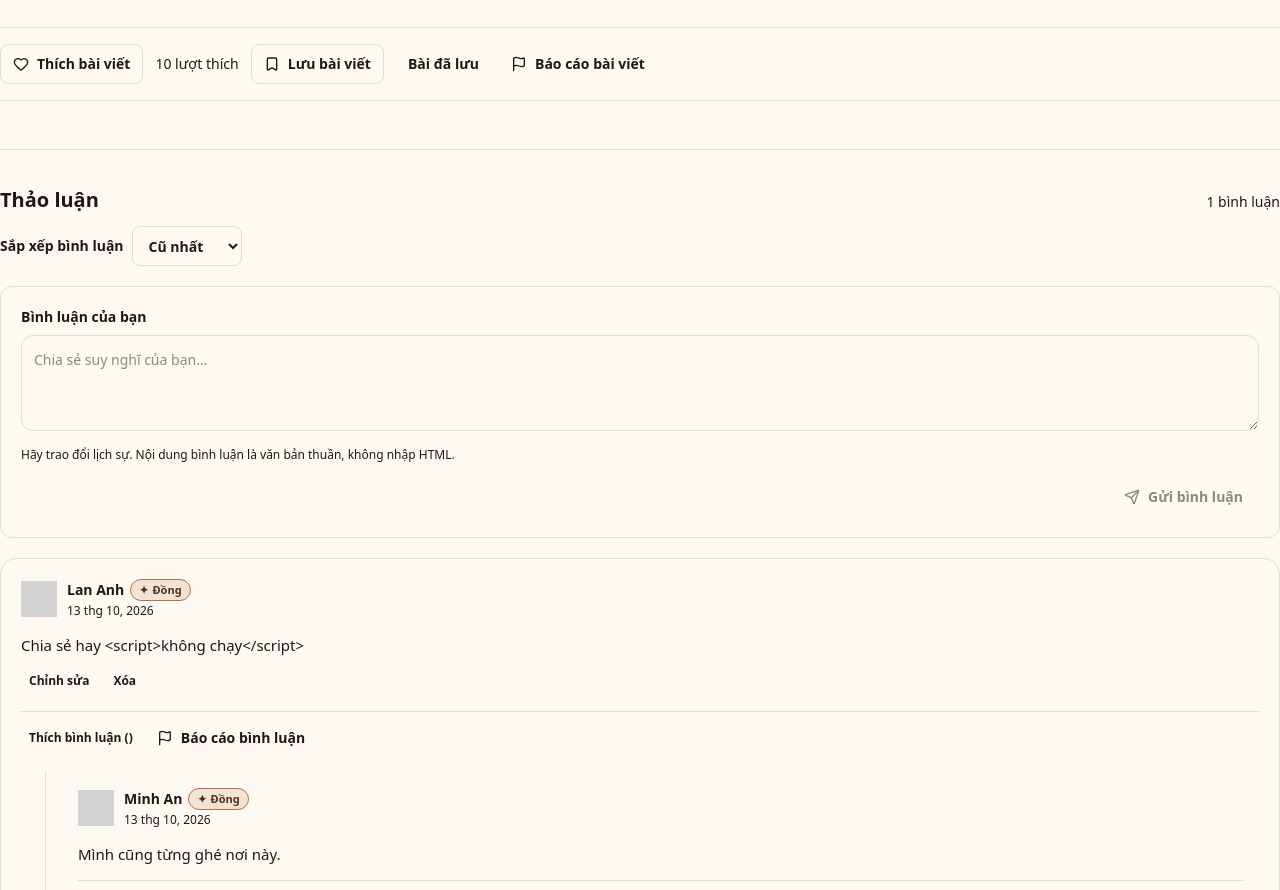
Test case: CommunityPostEngagement › posts a new thread and lets members reply to a nested comment
The image size is (1280, 890).
Step 1. Type "Ý kiến mới" into the text box labelled "Bình luận của bạn" → (640, 383), box [21,335,1259,431]
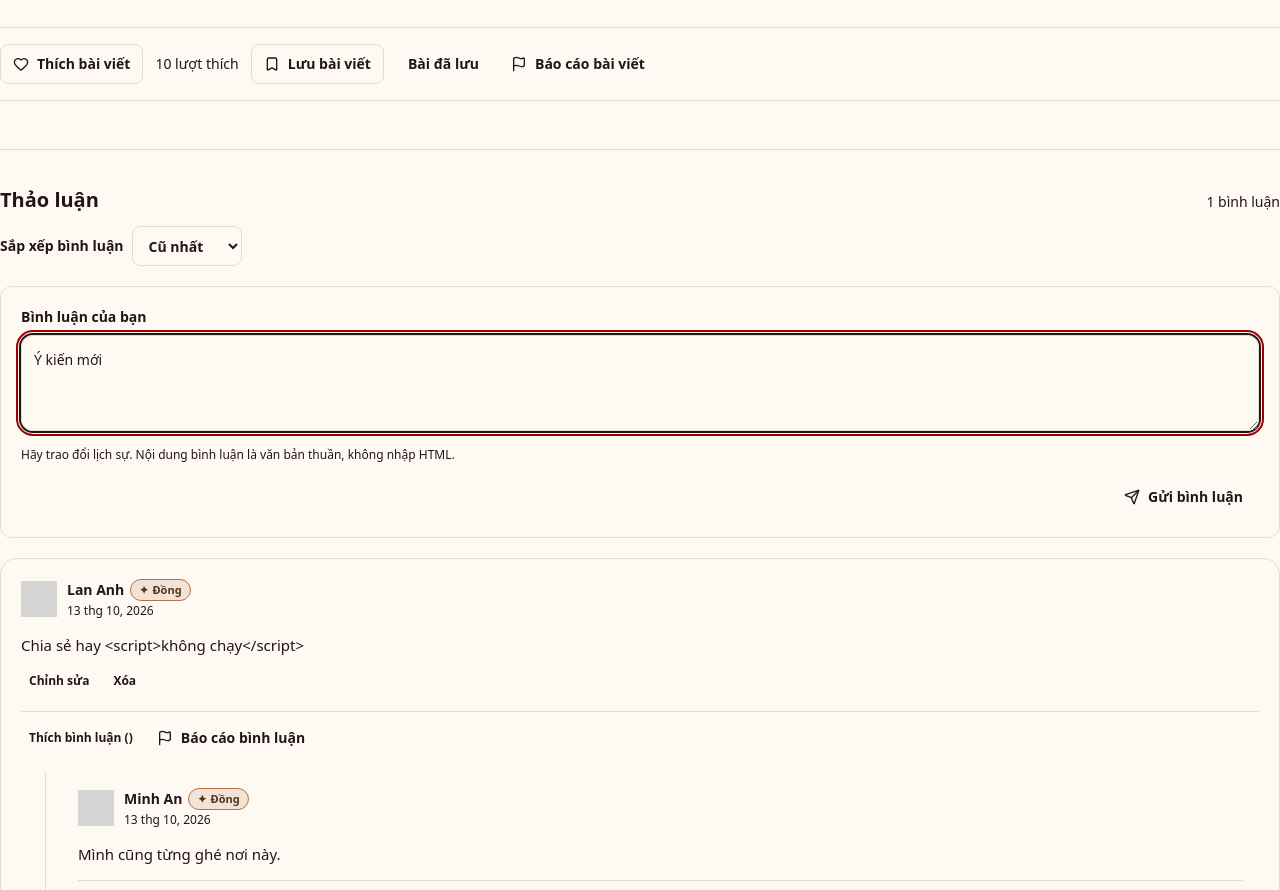
Step 2. Click the button "Gửi bình luận" → click(1184, 497), box [1108,477,1259,517]
(page scrolled)
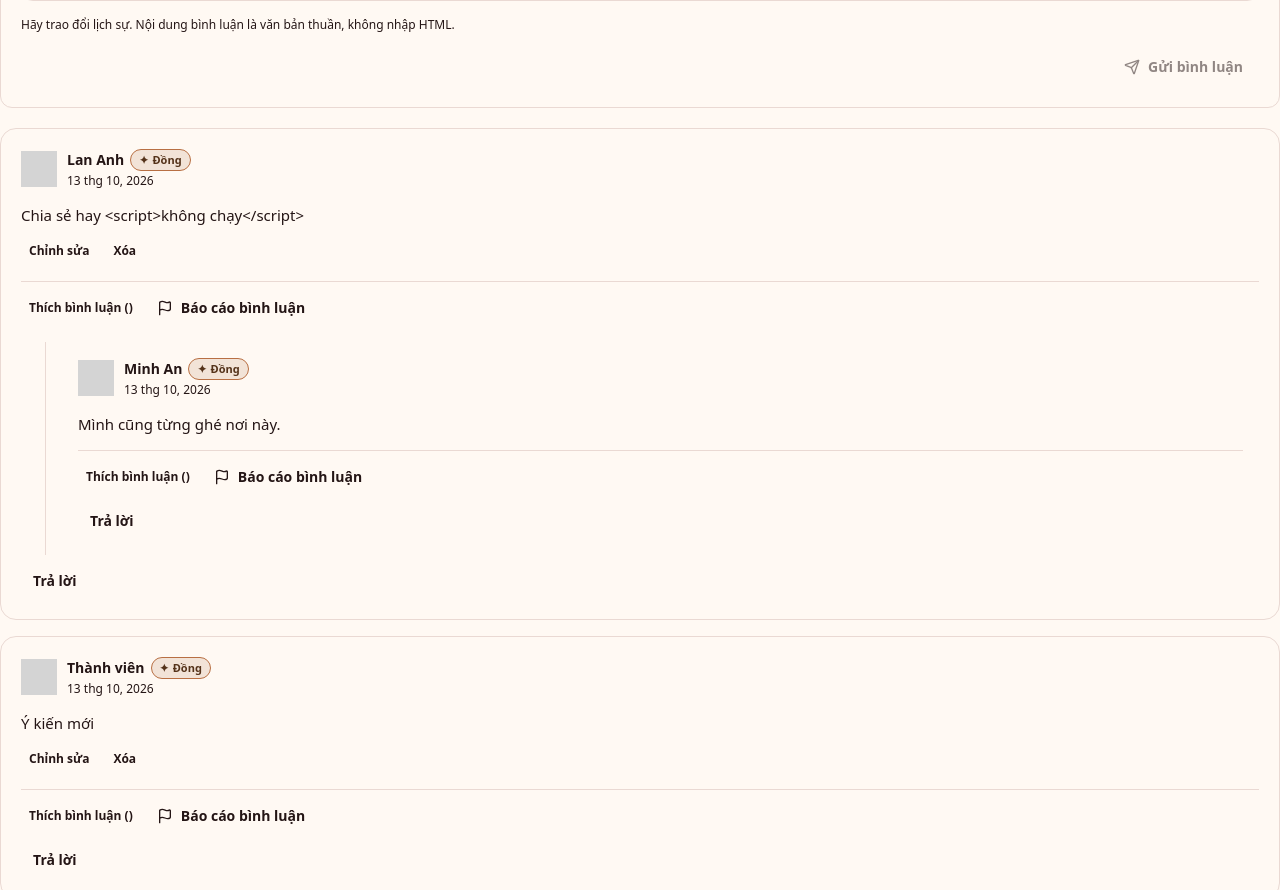
Expected: the text "Chia sẻ hay <script>không chạy</script>" is shown, [21,205,304,225]
Expected: the text "Ý kiến mới" is shown, [21,713,94,733]
Step 3. Click the button with aria-label "Trả lời Minh An" → click(112, 521), box [78,503,146,539]
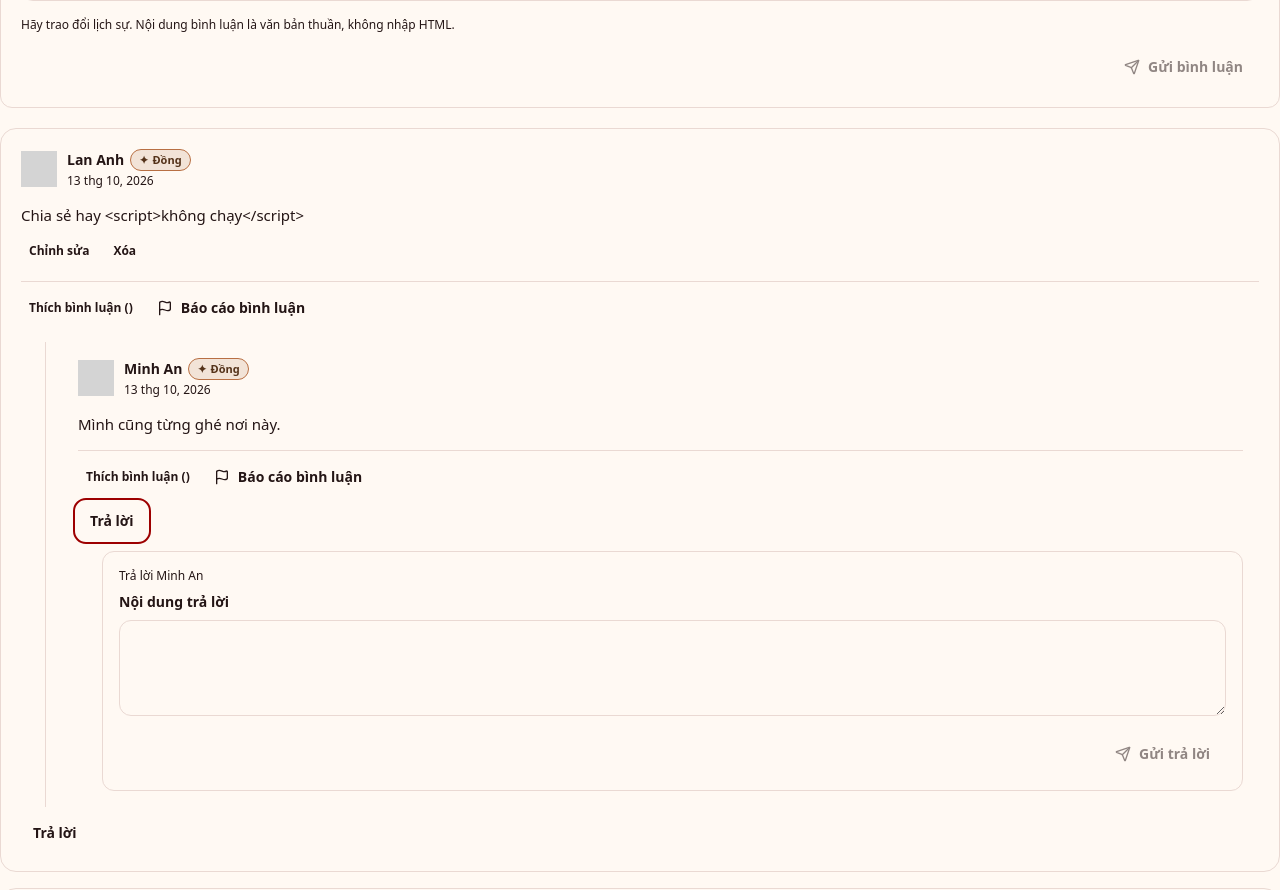
Step 4. Type "Một phản hồi" into the text box labelled "Nội dung trả lời" → (672, 668), box [119,620,1226,716]
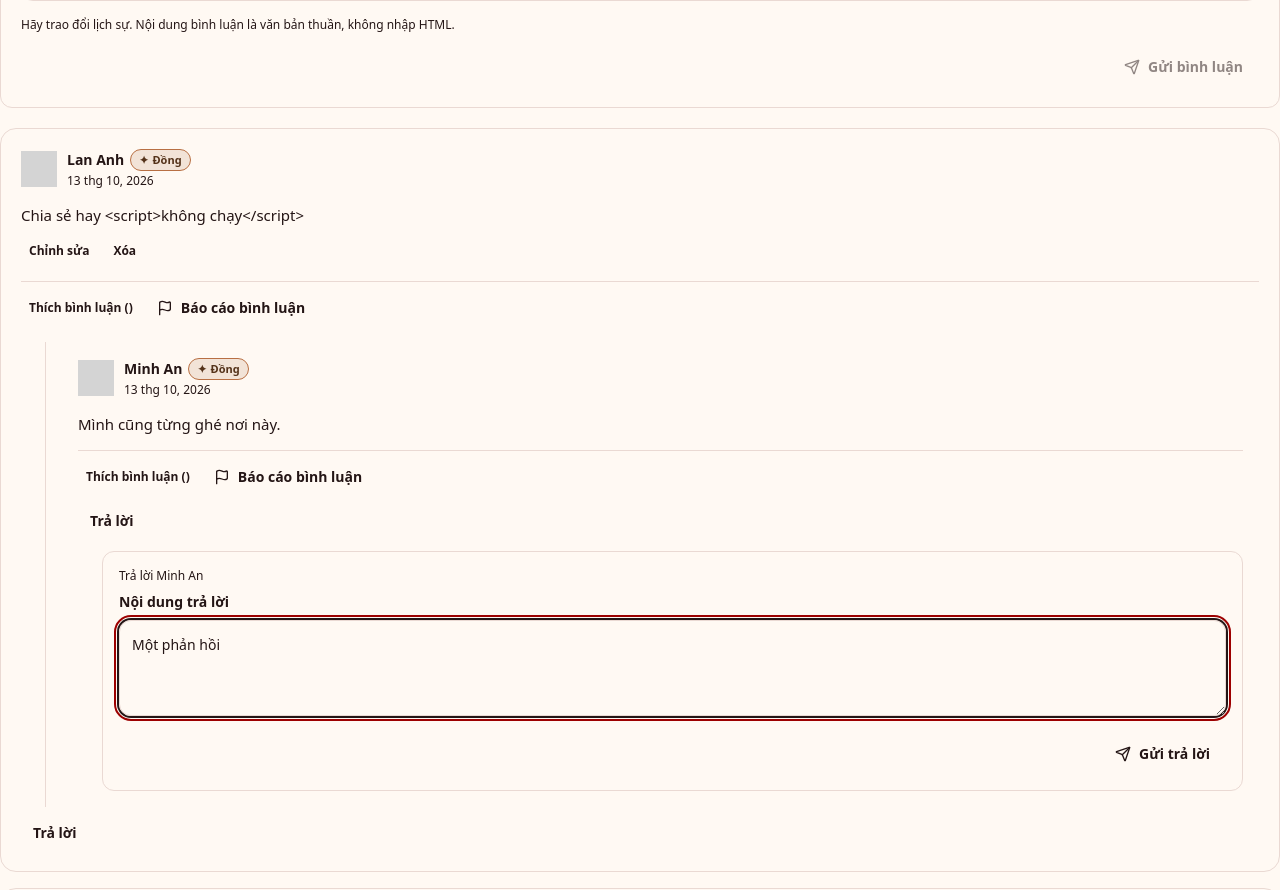
Step 5. Click the button "Gửi trả lời" → click(1162, 754), box [1099,734,1226,774]
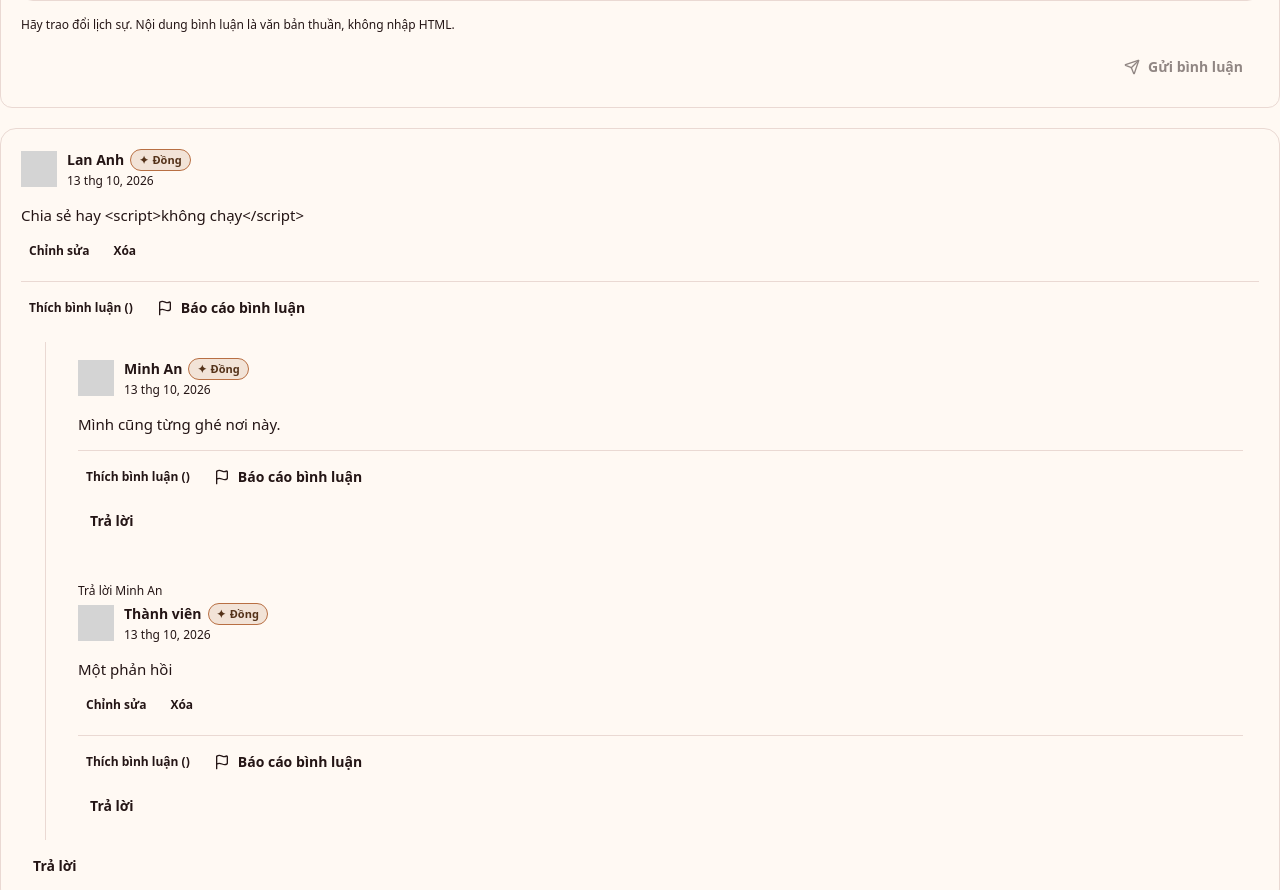
Expected: the text "Một phản hồi" is shown, [78,659,172,679]
